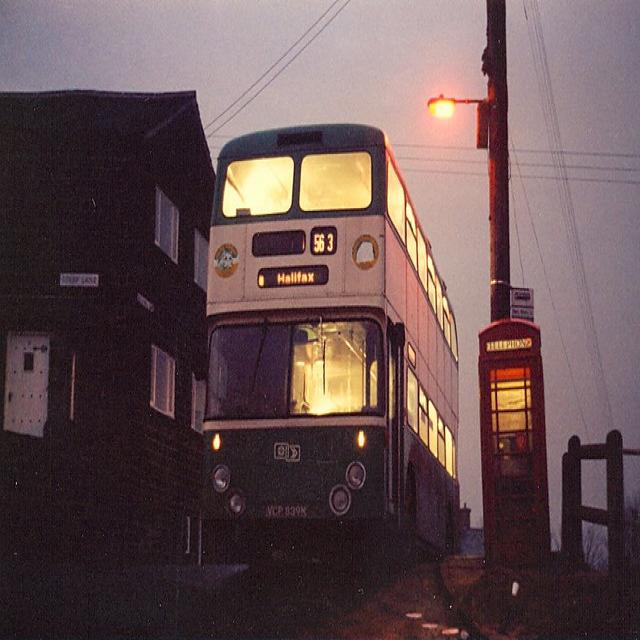Bus: (191, 112, 481, 558)
